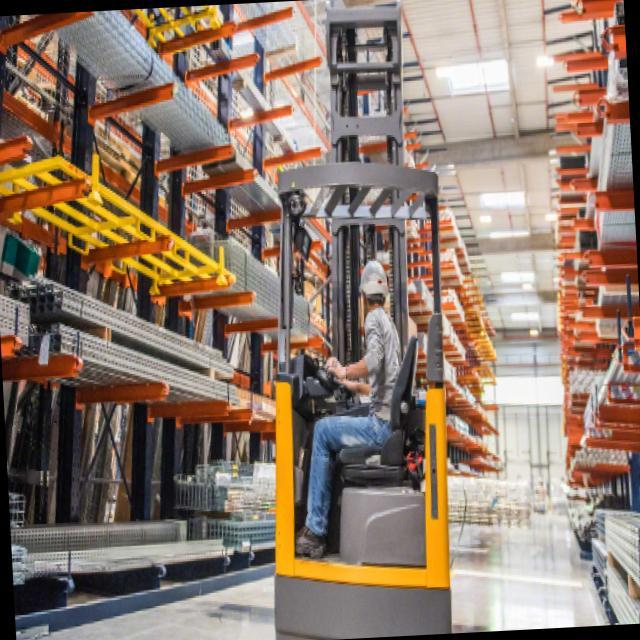hard_hat: (353, 254, 390, 305)
shoes: (291, 521, 336, 564)
